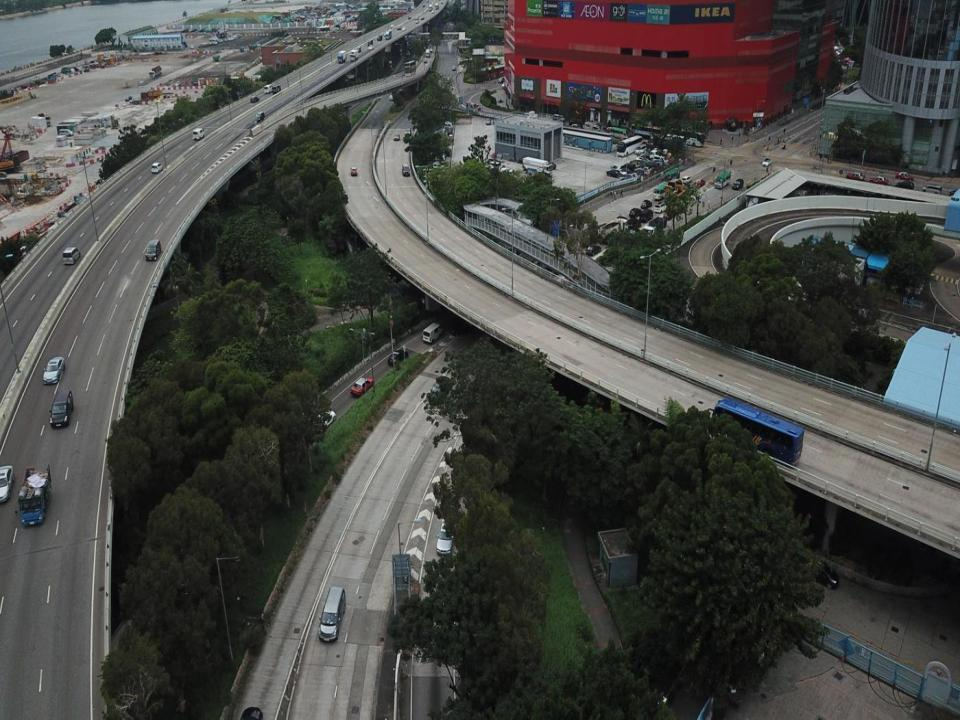bus: (705, 398, 806, 472), (665, 124, 704, 148), (630, 122, 665, 144), (616, 134, 642, 158), (404, 58, 417, 78), (608, 127, 628, 139)
car: (806, 556, 839, 590), (436, 516, 456, 556), (308, 408, 336, 434), (42, 356, 66, 386), (425, 378, 449, 408), (0, 462, 13, 502), (350, 376, 374, 396), (144, 238, 163, 262), (387, 349, 409, 365), (846, 169, 865, 182), (894, 178, 914, 190), (868, 174, 887, 185), (150, 162, 165, 174), (896, 170, 914, 180), (732, 178, 745, 190), (254, 110, 265, 124), (606, 169, 622, 178), (761, 156, 772, 168), (349, 165, 357, 178), (250, 95, 259, 104), (404, 128, 411, 137), (486, 117, 493, 125), (394, 132, 400, 139), (367, 45, 373, 49), (452, 64, 455, 71), (423, 59, 428, 63), (415, 19, 419, 24), (397, 25, 401, 29), (420, 16, 424, 20), (402, 27, 406, 30)
truck: (14, 463, 53, 527), (522, 156, 554, 178), (584, 121, 599, 136), (336, 49, 347, 64), (348, 49, 358, 62), (384, 29, 392, 40), (425, 48, 431, 58)
van: (317, 584, 347, 644), (49, 388, 74, 430), (421, 322, 443, 346), (62, 246, 81, 265), (191, 127, 205, 142), (401, 161, 410, 176), (263, 83, 274, 92), (272, 85, 280, 95), (377, 34, 382, 40)
